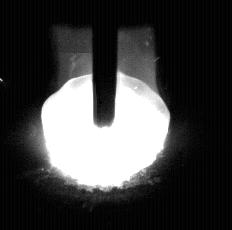arame: (94, 0, 117, 128)
poca: (41, 0, 170, 230)
